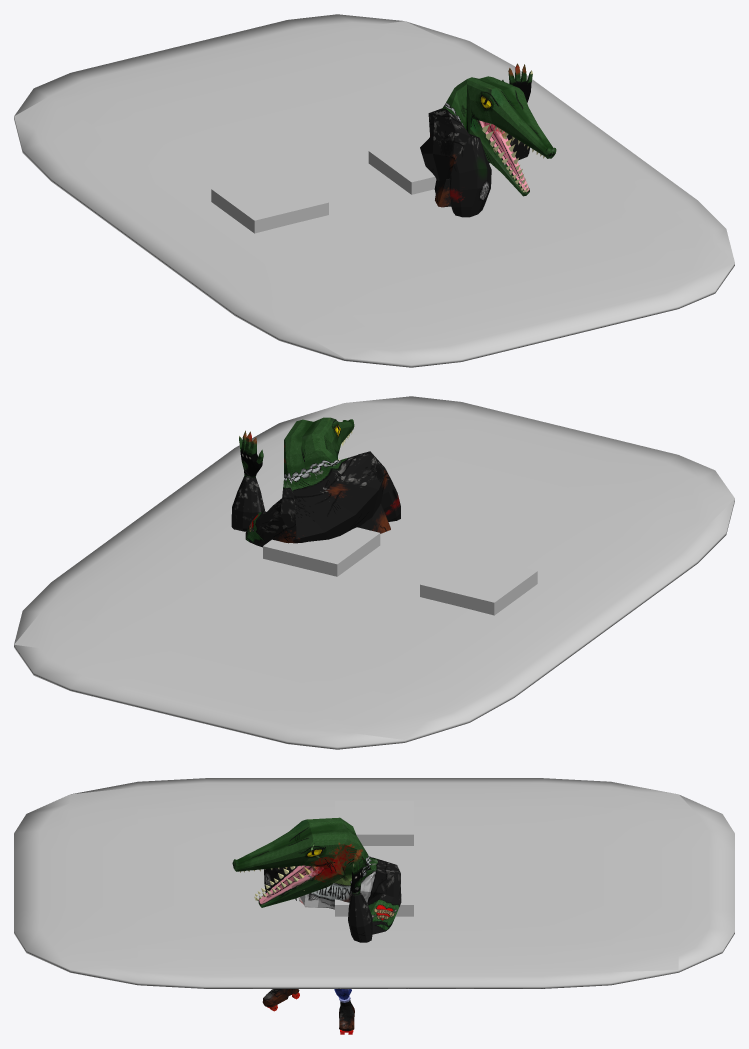
Rendered from cocodrilaBonesSelect_000050.obj.
3 views of the same model, one above another, from view 1: azimuth 30°, elevation 25°; view 2: azimuth 150°, elevation 25°; view 3: azimuth 270°, elevation 25° (orthographic). The views are drawn at different scales.
Visible parts, largest first — view 1: Mball, Crocodile.002_Cylinder.002, Cube, Cube.001; view 2: Mball, Crocodile.002_Cylinder.002, Cube, Cube.001; view 3: Mball, Crocodile.002_Cylinder.002, Cube, Cube.001.
Boxes of the visible parts, x1,y1,x2,y2 form: Mball: (14, 14, 734, 367); Crocodile.002_Cylinder.002: (420, 63, 556, 217); Cube: (211, 171, 328, 233); Cube.001: (368, 136, 436, 194); Mball: (14, 396, 734, 749); Crocodile.002_Cylinder.002: (231, 417, 400, 547); Cube: (420, 553, 537, 615); Cube.001: (263, 527, 380, 576); Mball: (14, 778, 734, 988); Crocodile.002_Cylinder.002: (232, 817, 401, 1034); Cube: (335, 801, 413, 845); Cube.001: (335, 871, 413, 916).
Size of the model in its own units: 12.42 by 6.17 by 18.18.
